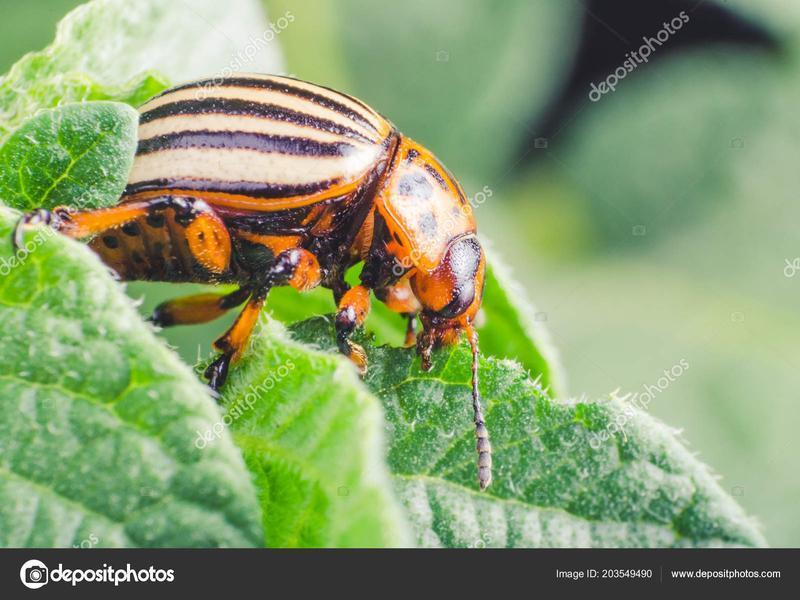hrosc: (105, 65, 515, 396)
